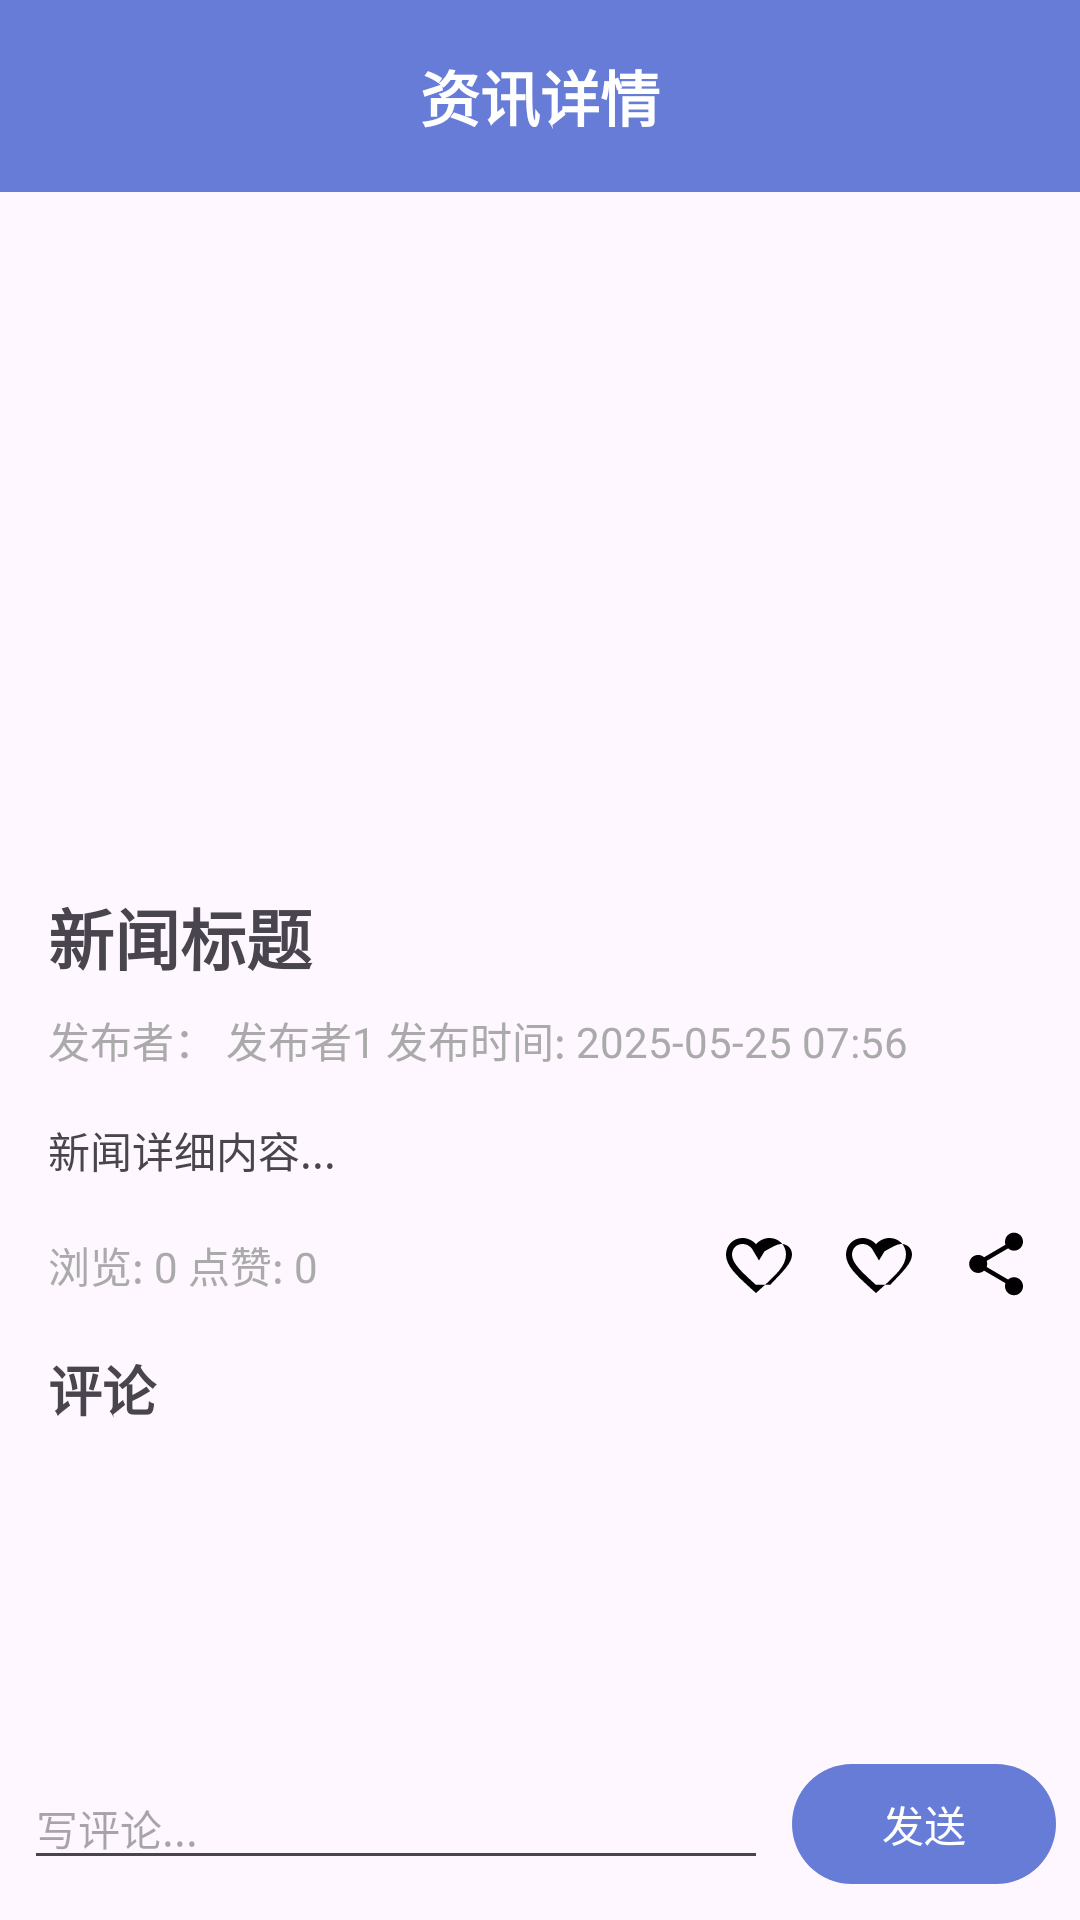

Icons on this 1080×1920 Android screen, each with the point to tap as (x,y):
Share: (996,1264)
